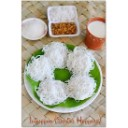idiyappam: (38, 78, 68, 105), (66, 75, 94, 100), (68, 48, 94, 74), (25, 56, 53, 79), (43, 42, 66, 69)
